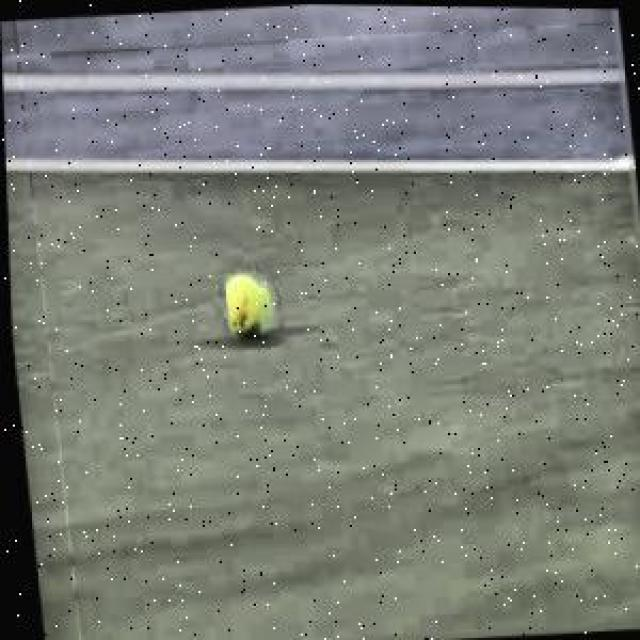tennis-ball: (223, 273, 270, 339)
